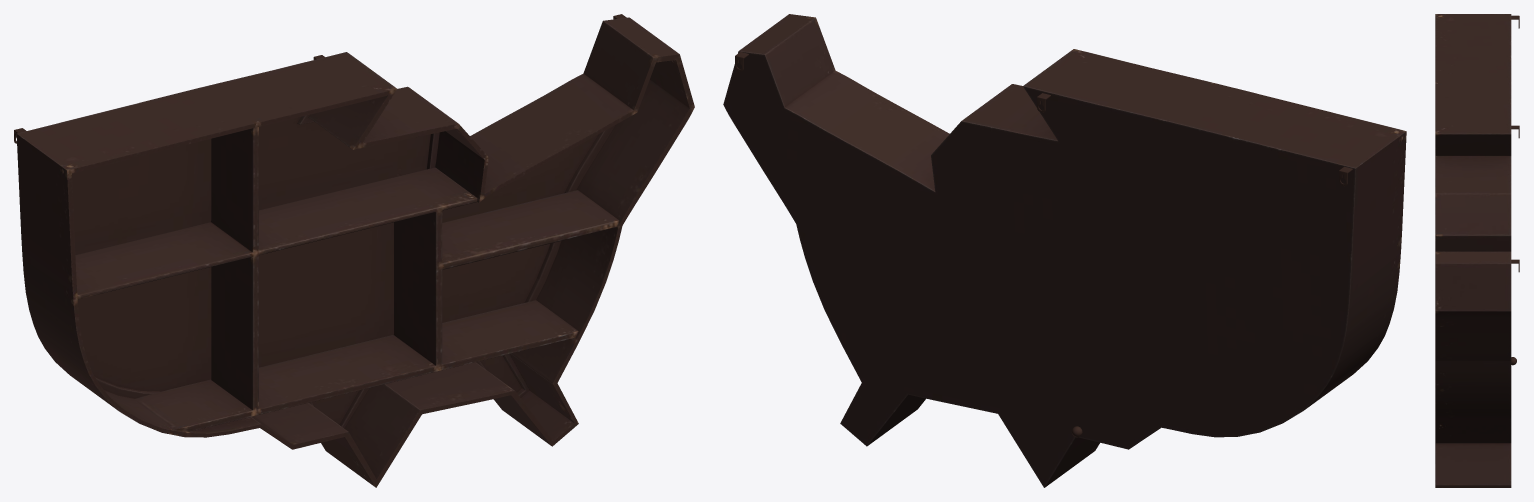
Rendered from bookshelf_B07B8K18WV.glb.
The picture shows the model from 3 angles, left to right: view 1: azimuth 30°, elevation 25°; view 2: azimuth 150°, elevation 25°; view 3: azimuth 270°, elevation 25°; orthographic projection. The views are drawn at different scales.
Visible parts, largest first — view 1: RootNode; view 2: RootNode; view 3: RootNode.
Part boxes in pixels (x1,y1,x2,y2): RootNode: (14,14,694,487); RootNode: (723,14,1406,487); RootNode: (1435,14,1519,487).
Size of the model in its own units: 0.7291 by 0.4391 by 0.1125.
1 material, 1 textured.
